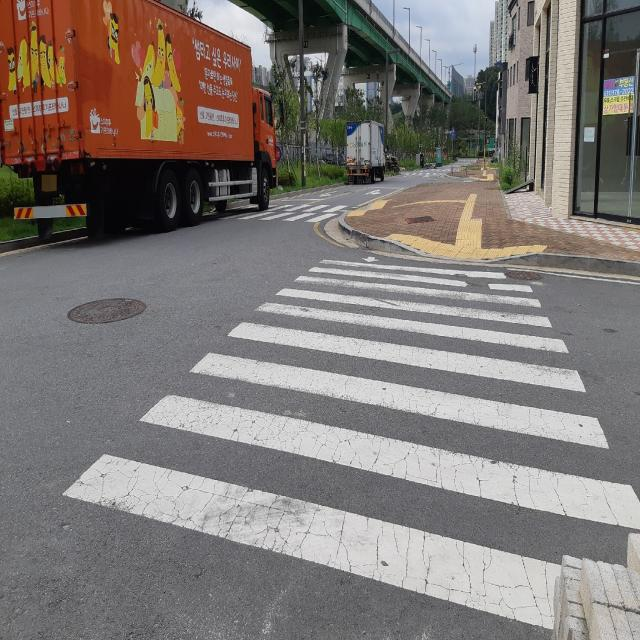횡단보도: (62, 256, 640, 632)
